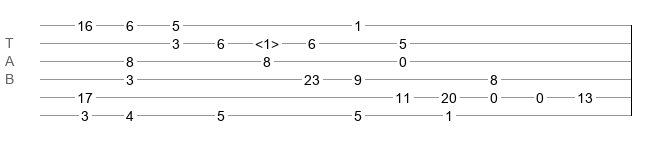0: (399, 54, 407, 64), (490, 90, 498, 100), (536, 90, 544, 100)
1: (354, 18, 362, 28), (445, 108, 453, 118)
11: (395, 90, 411, 100)
13: (577, 90, 593, 100)
16: (77, 18, 93, 28)
17: (77, 90, 93, 100)
20: (441, 90, 457, 100)
23: (304, 72, 320, 82)
3: (81, 108, 89, 118), (126, 72, 134, 82), (172, 36, 180, 46)
4: (126, 108, 134, 118)
5: (172, 18, 180, 28), (217, 108, 225, 118), (354, 108, 362, 118), (399, 36, 407, 46)
6: (126, 18, 134, 28), (217, 36, 225, 46), (308, 36, 316, 46)
8: (126, 54, 134, 64), (263, 54, 271, 64), (490, 72, 498, 82)
9: (354, 72, 362, 82)
harmonic: (255, 36, 279, 46)
